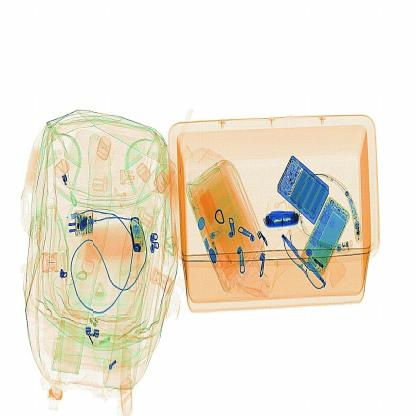scissors: (252, 204, 308, 239)
